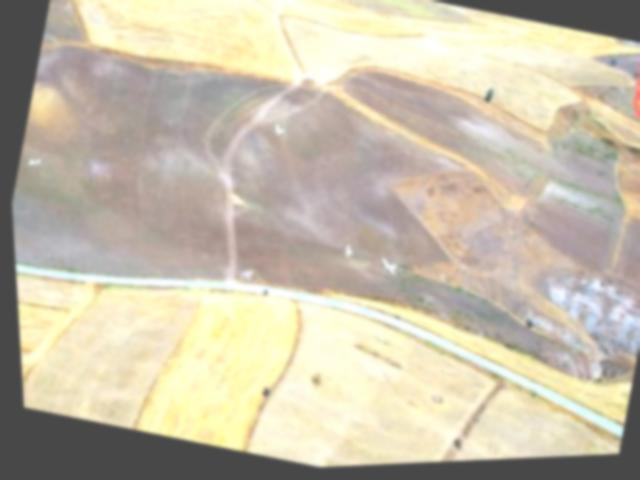uav: (374, 256, 397, 280), (269, 123, 287, 143), (21, 153, 42, 169), (337, 245, 352, 264)
